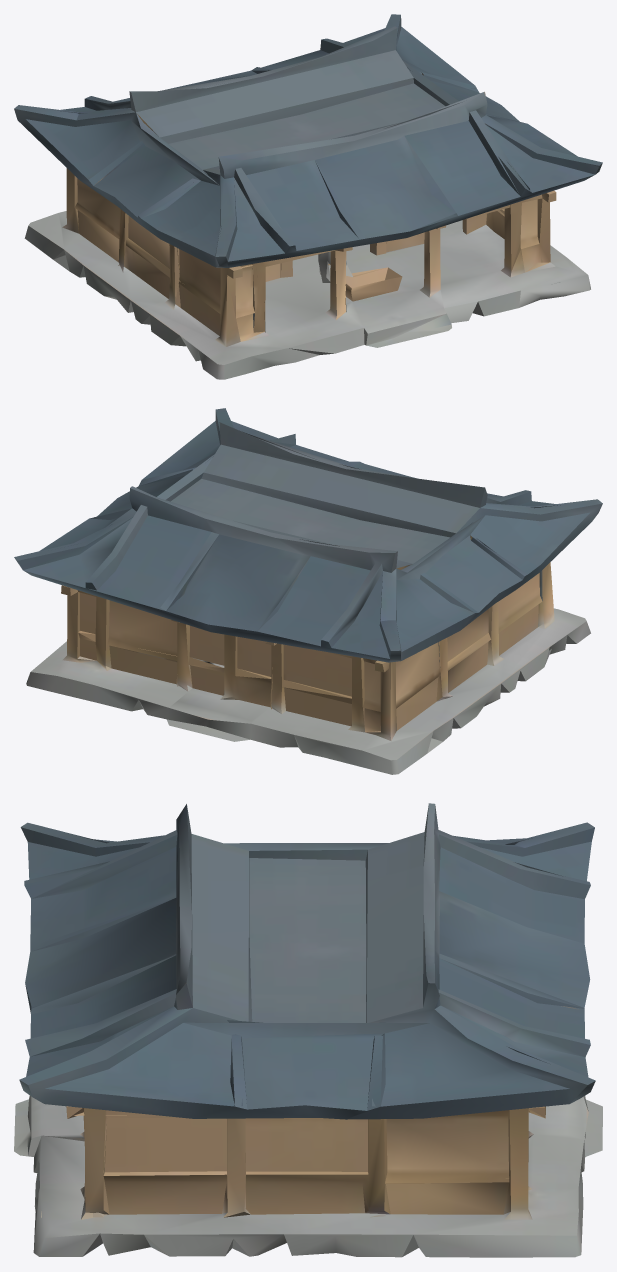
3 renders of one model, top to bottom at view 1: azimuth 30°, elevation 25°; view 2: azimuth 150°, elevation 25°; view 3: azimuth 270°, elevation 25°, orthographic. The views are drawn at different scales.
Parts seen in each view (by area): view 1: geometry_0; view 2: geometry_0; view 3: geometry_0.
Boxes of the visible parts, x1=… form: geometry_0: x1=14, y1=14, x2=602, y2=379; geometry_0: x1=14, y1=408, x2=602, y2=774; geometry_0: x1=14, y1=803, x2=602, y2=1257.
Bounding box in the file's own units: 1 × 0.425 × 0.9512.
Materials: 1 (1 with a texture image).
